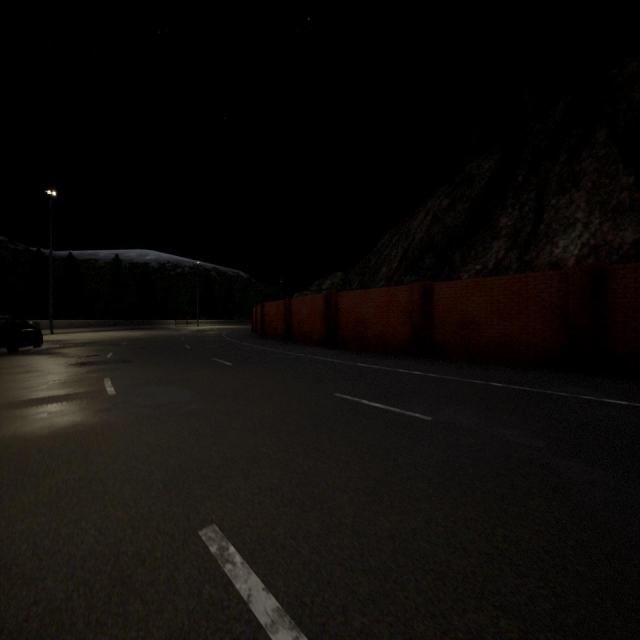Vehicle: (0, 316, 43, 354)
